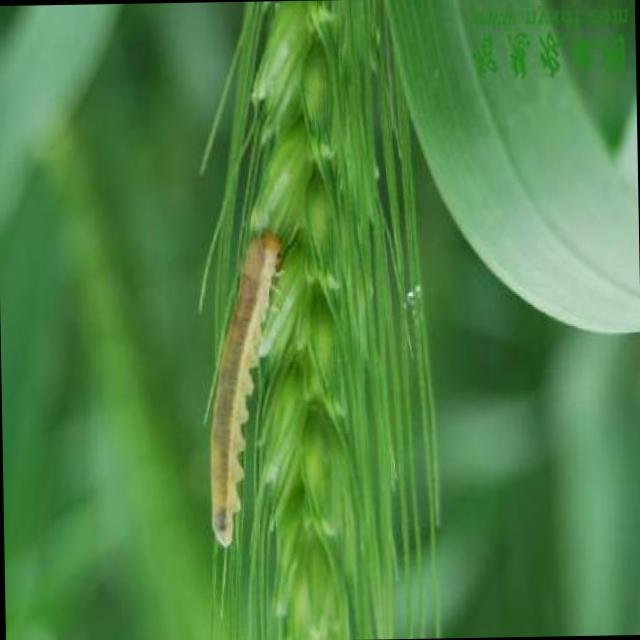Plaga: (197, 222, 302, 554)
